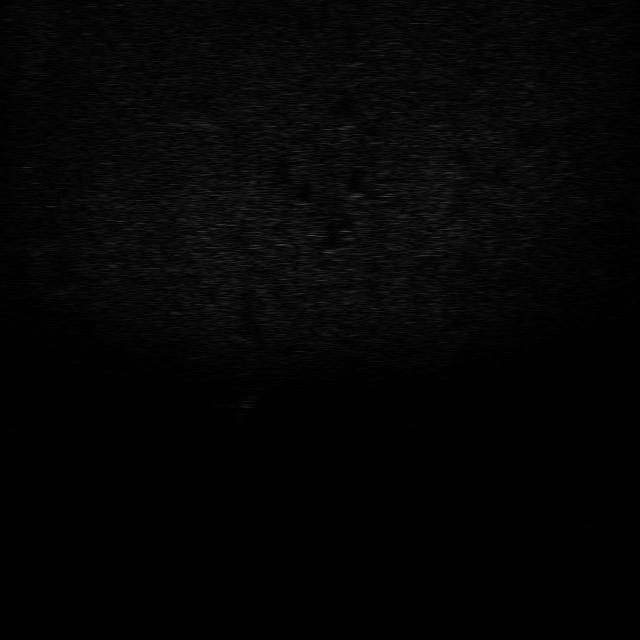human body: (228, 378, 268, 424)
